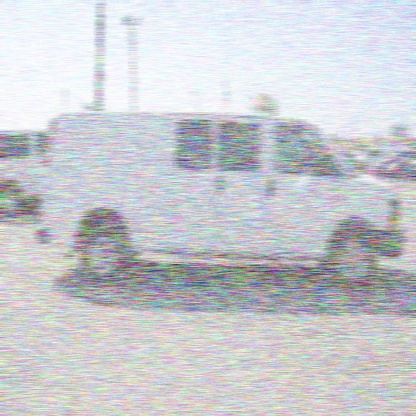Vehicle: (36, 107, 407, 288)
